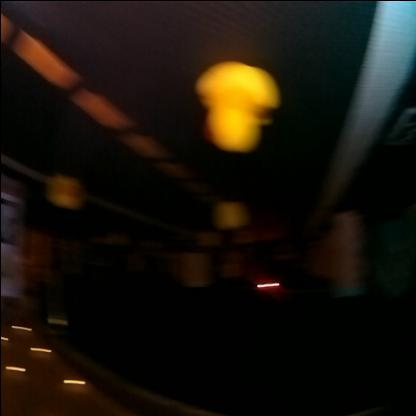Duckie: (194, 60, 279, 152), (43, 174, 80, 210), (210, 202, 246, 230)
QR code: (381, 108, 414, 148)
